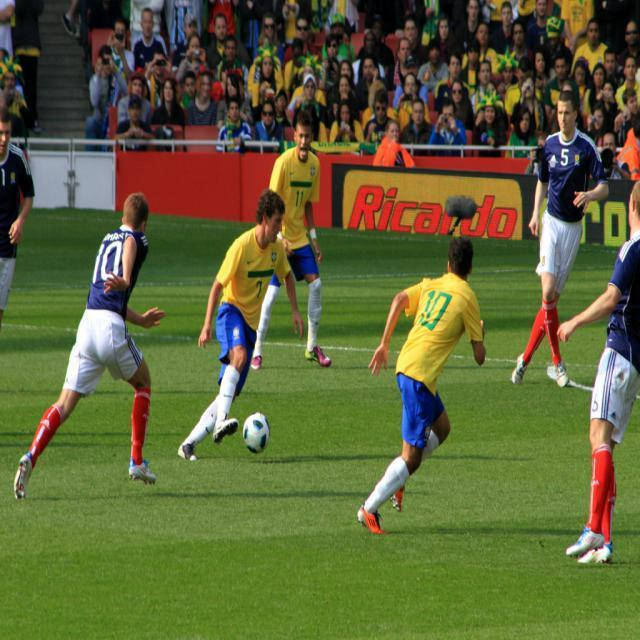football: (234, 406, 277, 463)
